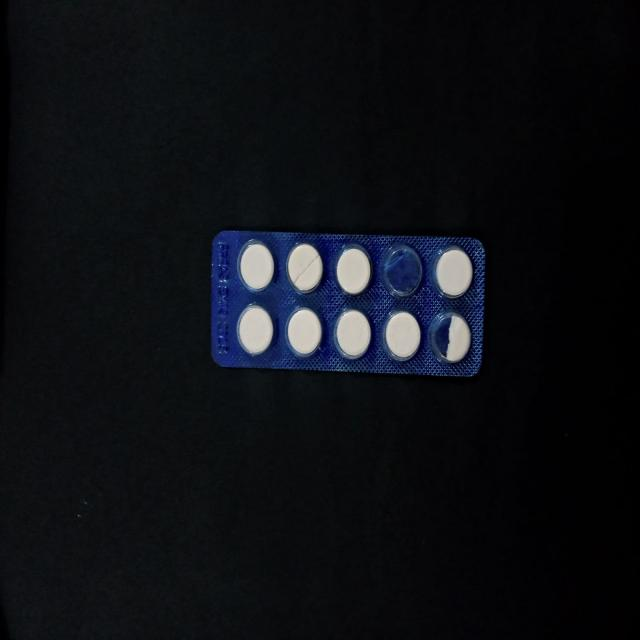defect: (426, 308, 476, 367), (380, 240, 426, 300), (284, 238, 327, 298)
